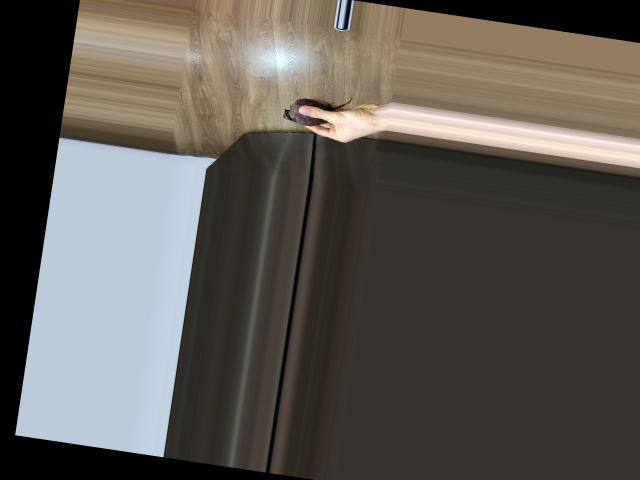beet: (281, 86, 351, 131)
